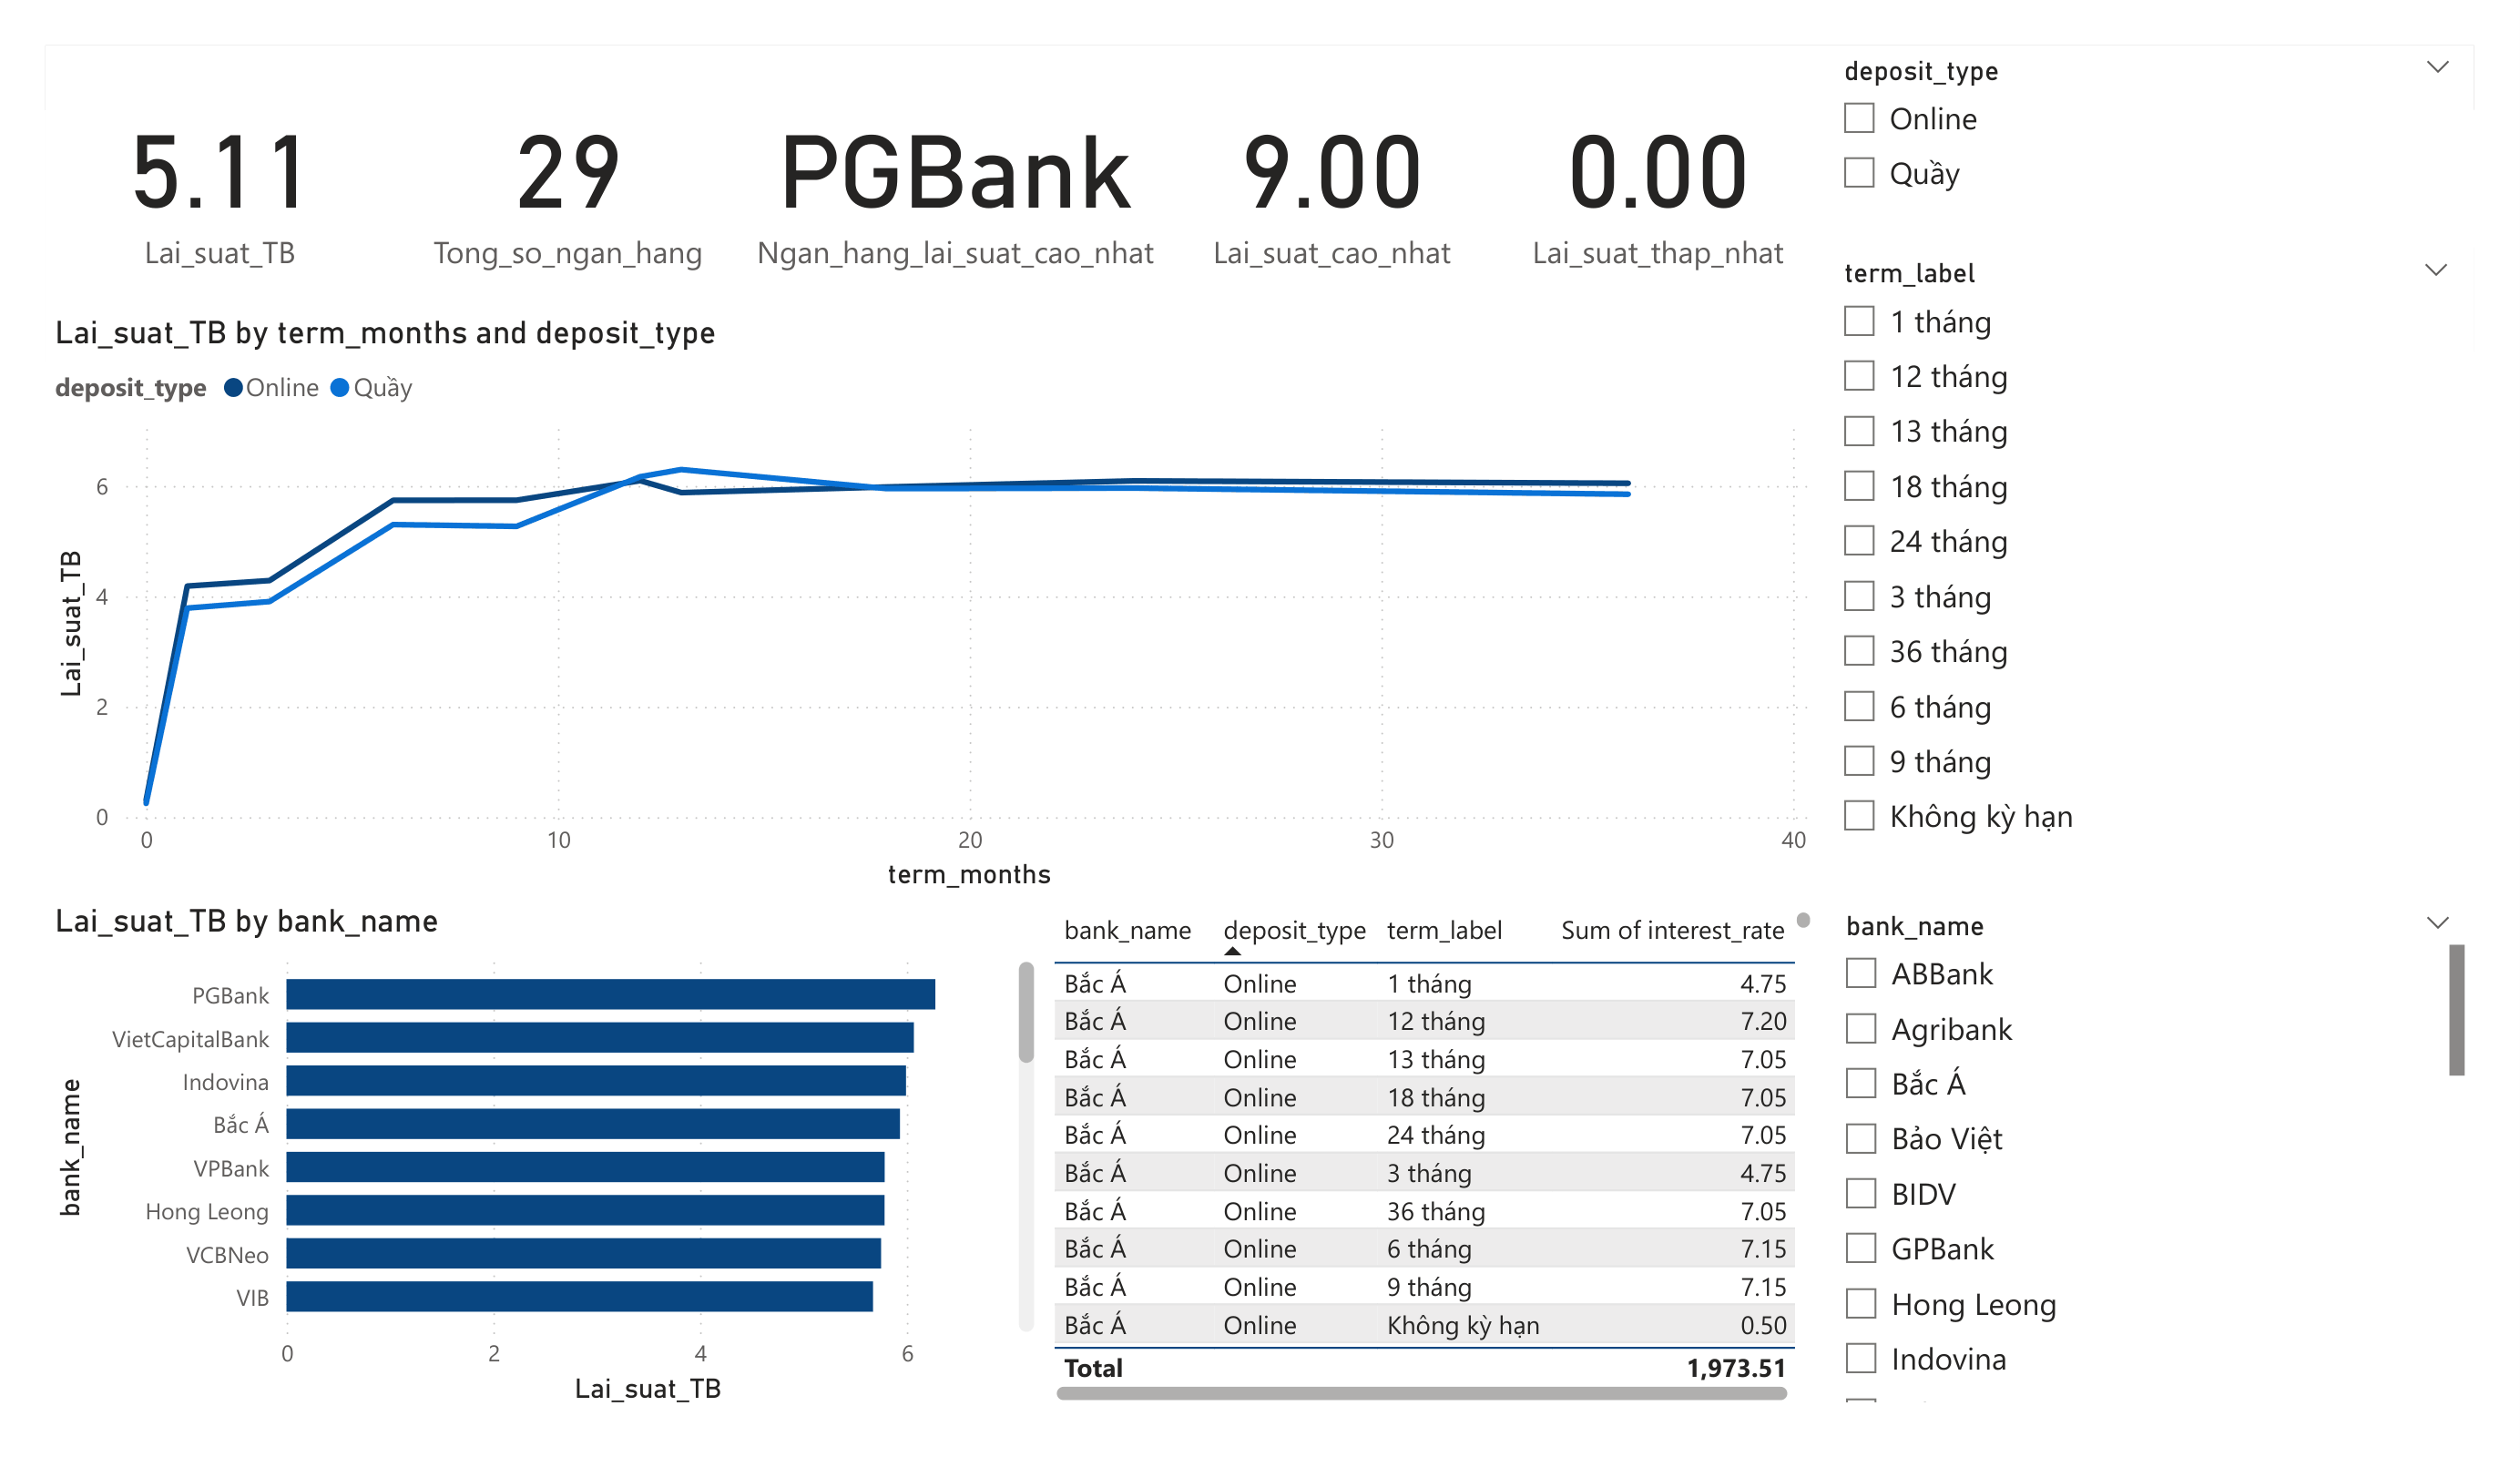

Layout of this report page (visuals, bound fields, positions):
{"tool":"powerbi","page":{"name":"Page 1","canvas":[1280,720],"ordinal":0},"visuals":[{"type":"card","fields":{"Values":["_Measures.Lai_suat_TB"]},"box":[0,0,183.9,140.4],"z":0},{"type":"card","fields":{"Values":["_Measures.Lai_suat_cao_nhat"]},"box":[592,0,171.7,140.4],"z":1000},{"type":"card","fields":{"Values":["_Measures.Lai_suat_thap_nhat"]},"box":[763.8,0,171.7,140.4],"z":2000},{"type":"card","fields":{"Values":["_Measures.Tong_so_ngan_hang"]},"box":[183.9,0,182.9,140.4],"z":3000},{"type":"card","fields":{"Values":["_Measures.Ngan_hang_lai_suat_cao_nhat"]},"box":[366.7,0,225.3,140.4],"z":4000},{"type":"lineChart","fields":{"Category":["interest_rates.term_months"],"Y":["_Measures.Lai_suat_TB"],"Series":["interest_rates.deposit_type"]},"box":[0,140.6,935.8,309.6],"z":5000},{"type":"clusteredBarChart","fields":{"Category":["banks.bank_name"],"Y":["_Measures.Lai_suat_TB"]},"box":[0,450.6,526.3,269.7],"z":6000},{"type":"tableEx","fields":{"Values":["banks.bank_name","interest_rates.deposit_type","interest_rates.term_label","Sum(interest_rates.interest_rate)"]},"box":[526.3,450.6,409.2,269.7],"z":7000},{"type":"slicer","fields":{"Values":["banks.bank_name"]},"box":[935.5,450.6,344.5,269.7],"z":8000},{"type":"slicer","fields":{"Values":["interest_rates.term_label"]},"box":[935,107,344.2,343.3],"z":9000},{"type":"slicer","fields":{"Values":["interest_rates.deposit_type"]},"box":[935.5,0,344.8,107.3],"z":10000}]}

Visuals, with their boxes on the page's 1280x720 design canvas (x1, y1, x2, y2). These are canvas units, not pixel positions in the 2520x1457 screenshot, which may show the page scaled, cropped or inside an application window:
card - _Measures.Lai_suat_TB: x1=0, y1=0, x2=184, y2=140
card - _Measures.Lai_suat_cao_nhat: x1=592, y1=0, x2=764, y2=140
card - _Measures.Lai_suat_thap_nhat: x1=764, y1=0, x2=936, y2=140
card - _Measures.Tong_so_ngan_hang: x1=184, y1=0, x2=367, y2=140
card - _Measures.Ngan_hang_lai_suat_cao_nhat: x1=367, y1=0, x2=592, y2=140
lineChart - interest_rates.term_months x _Measures.Lai_suat_TB: x1=0, y1=141, x2=936, y2=450
clusteredBarChart - banks.bank_name x _Measures.Lai_suat_TB: x1=0, y1=451, x2=526, y2=720
tableEx - banks.bank_name x interest_rates.deposit_type: x1=526, y1=451, x2=936, y2=720
slicer - banks.bank_name: x1=936, y1=451, x2=1280, y2=720
slicer - interest_rates.term_label: x1=935, y1=107, x2=1279, y2=450
slicer - interest_rates.deposit_type: x1=936, y1=0, x2=1280, y2=107
